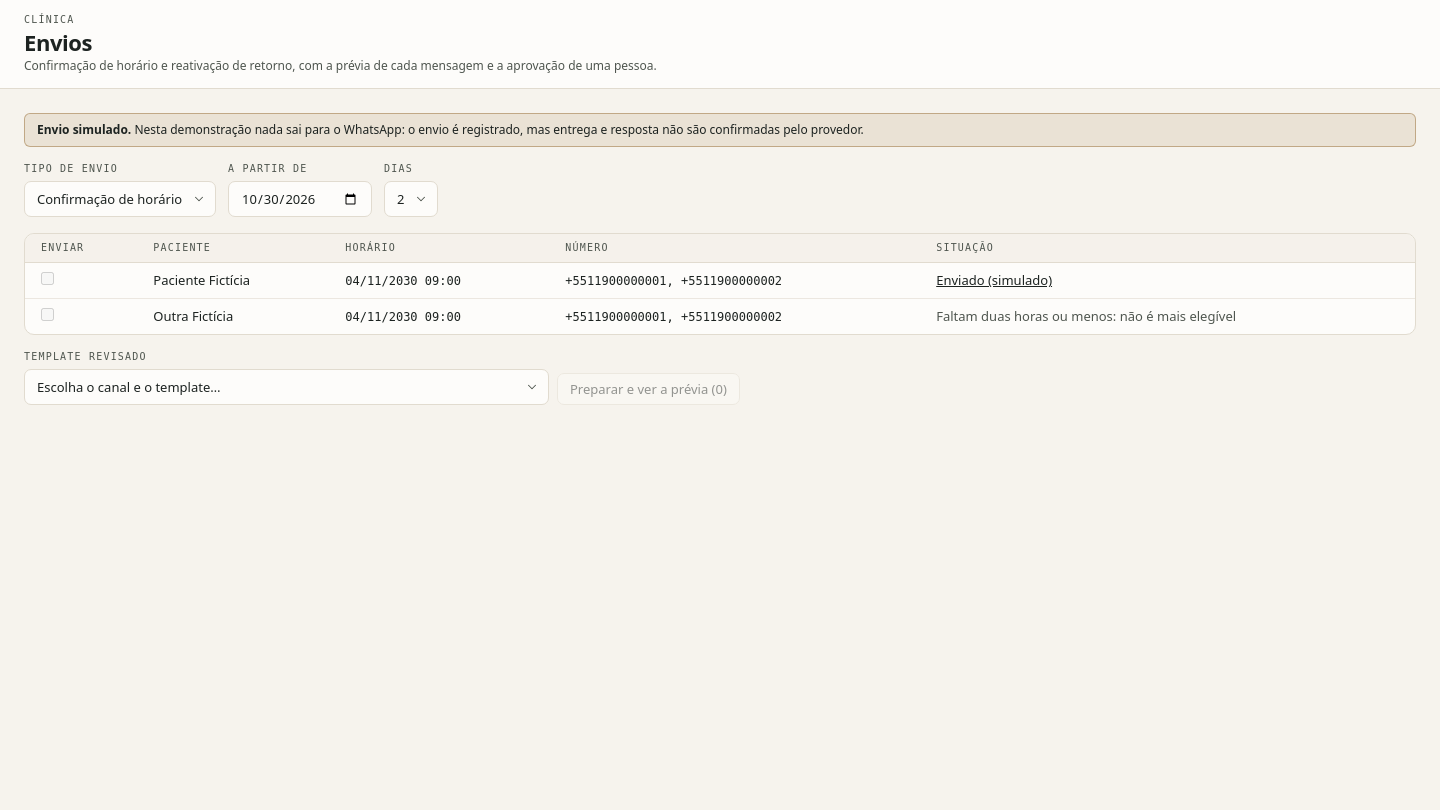
envios: candidatos, prévia e aprovação › o candidato bloqueado não é escolhido, e o pedido existente abre o acompanhamento com o que o servidor manda
Expected: the text "Faltam duas horas ou menos: não é mais elegível" is shown, [936,307,1236,325]
Click the button with aria-label "Acompanhar o pedido de Paciente Fictícia" at (994, 281), box [936,271,1052,290]
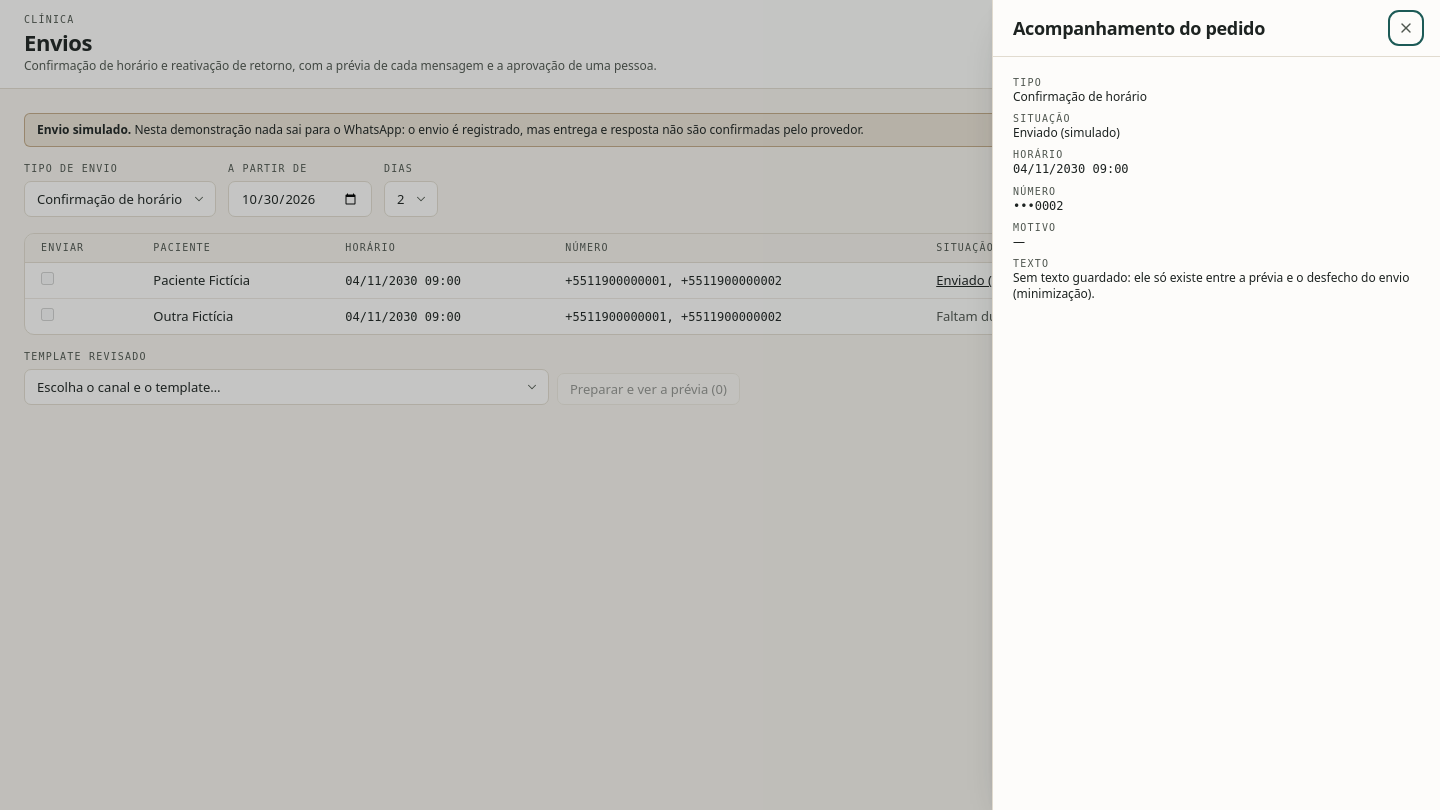
Expected: the text "Enviado (simulado)" is shown, [1013,124,1120,141]
Expected: the text "•••0002" is shown, [1013,199,1064,213]
Expected: the text "Sem texto guardado" is shown, [1013,269,1413,302]
